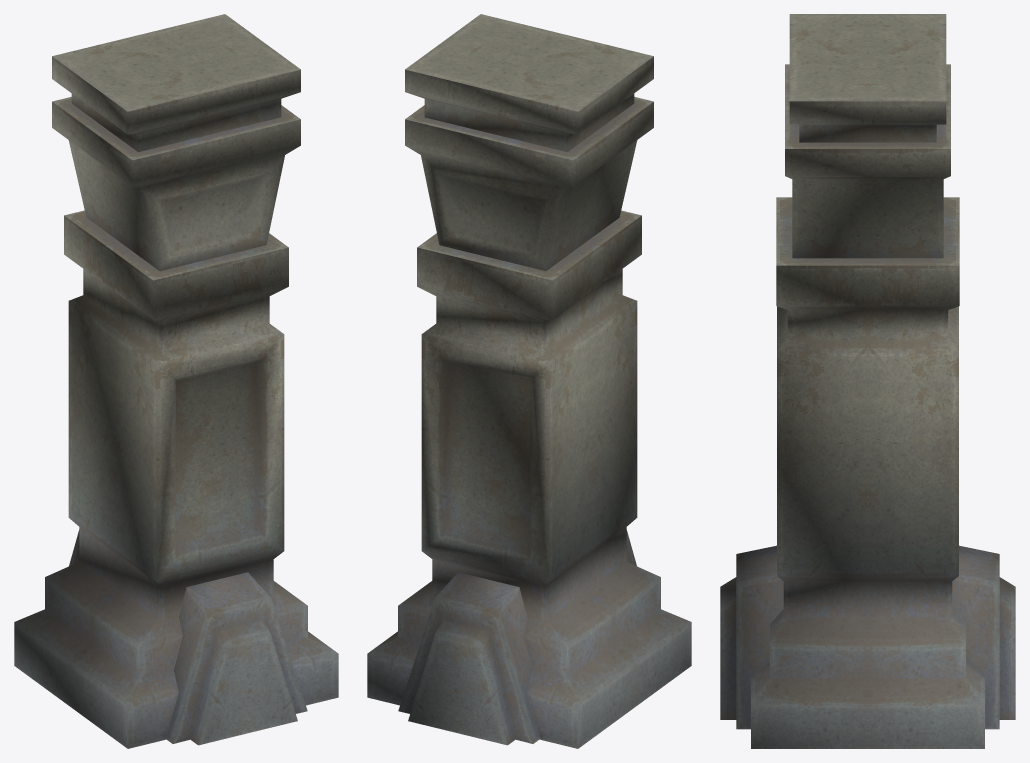
File: AD_Pillar_A_01.fbx
3 renders of one model, left to right at view 1: azimuth 30°, elevation 25°; view 2: azimuth 150°, elevation 25°; view 3: azimuth 270°, elevation 25°, orthographic. The views are drawn at different scales.
Parts seen in each view (by area): view 1: AD_Pillar_A_01; view 2: AD_Pillar_A_01; view 3: AD_Pillar_A_01.
Part boxes in pixels (bbox=[...]): AD_Pillar_A_01: bbox=[14, 14, 338, 748]; AD_Pillar_A_01: bbox=[367, 14, 691, 748]; AD_Pillar_A_01: bbox=[720, 14, 1015, 748].
Bounding box in the file's own units: 290 × 814 × 342.
1 material, 1 textured.
